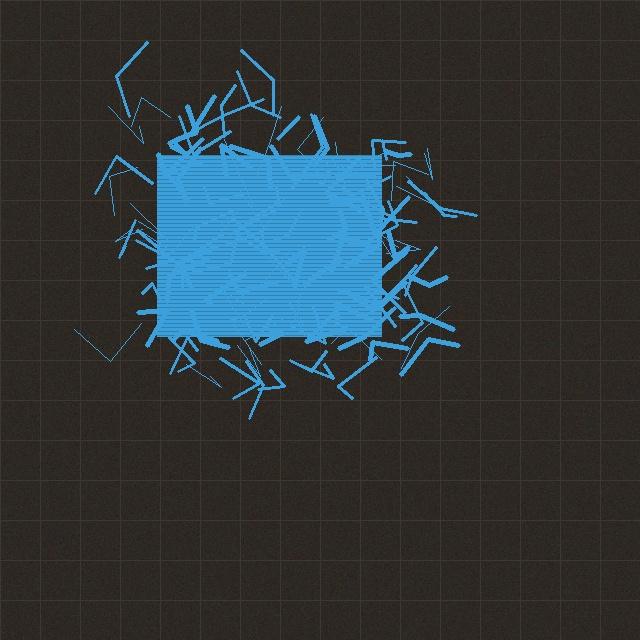spaghetti: (117, 105, 441, 386)
